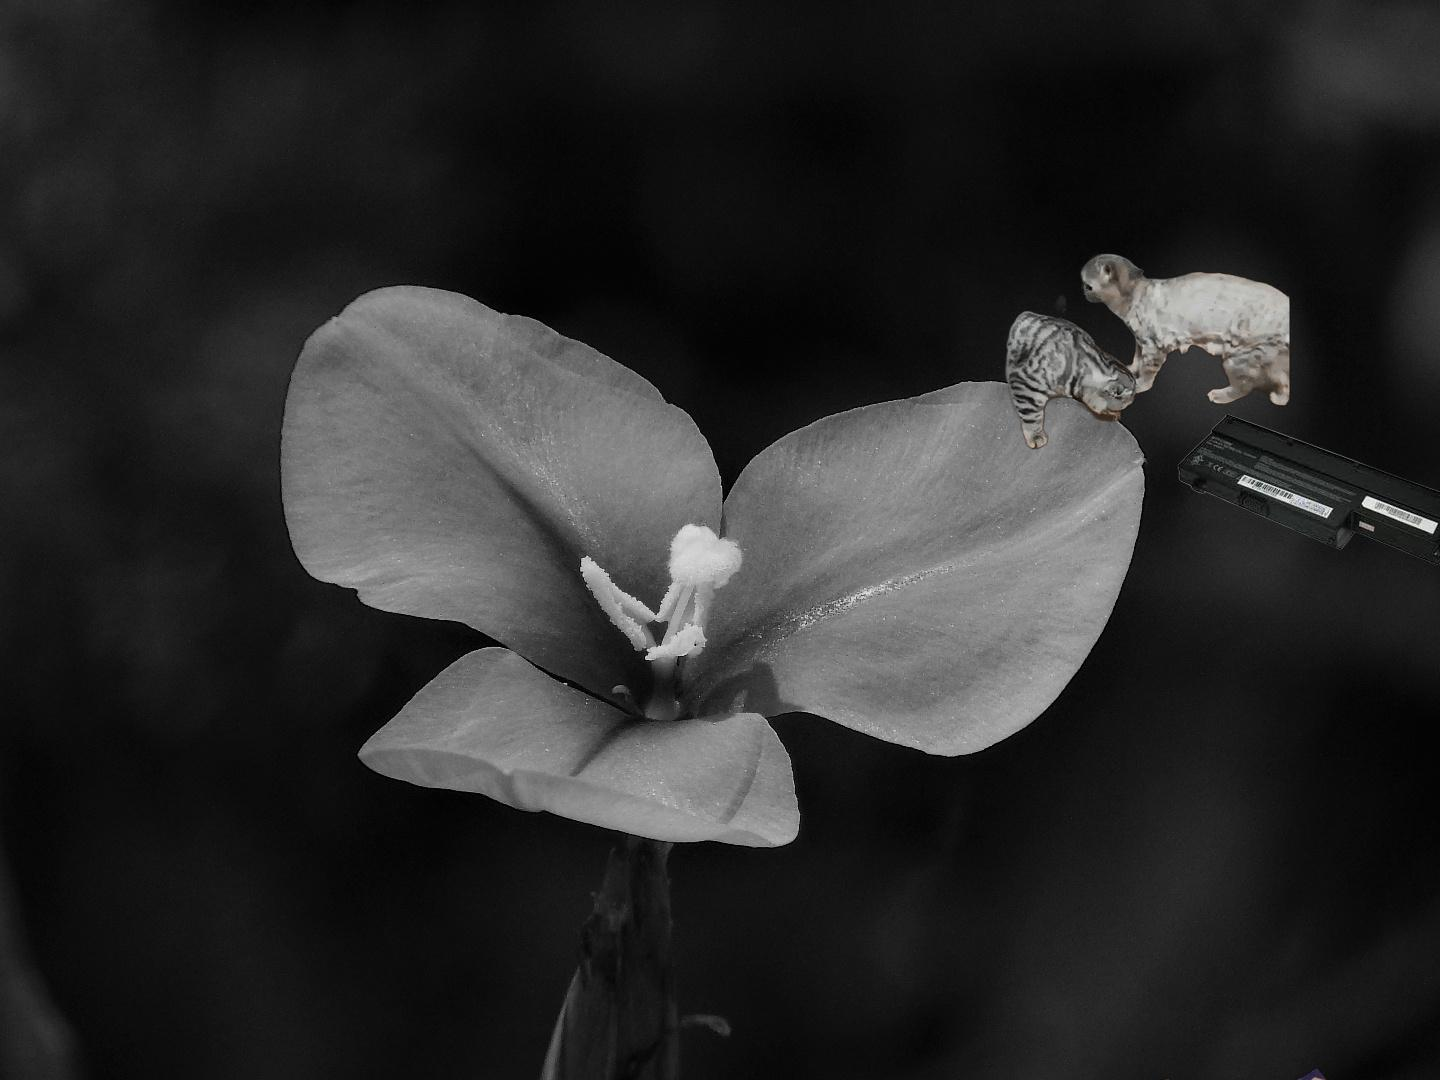battery: (1175, 408, 1440, 568)
paper-bag: (1140, 1065, 1382, 1080)
trashbox-cardboard: (1002, 251, 1291, 452)
